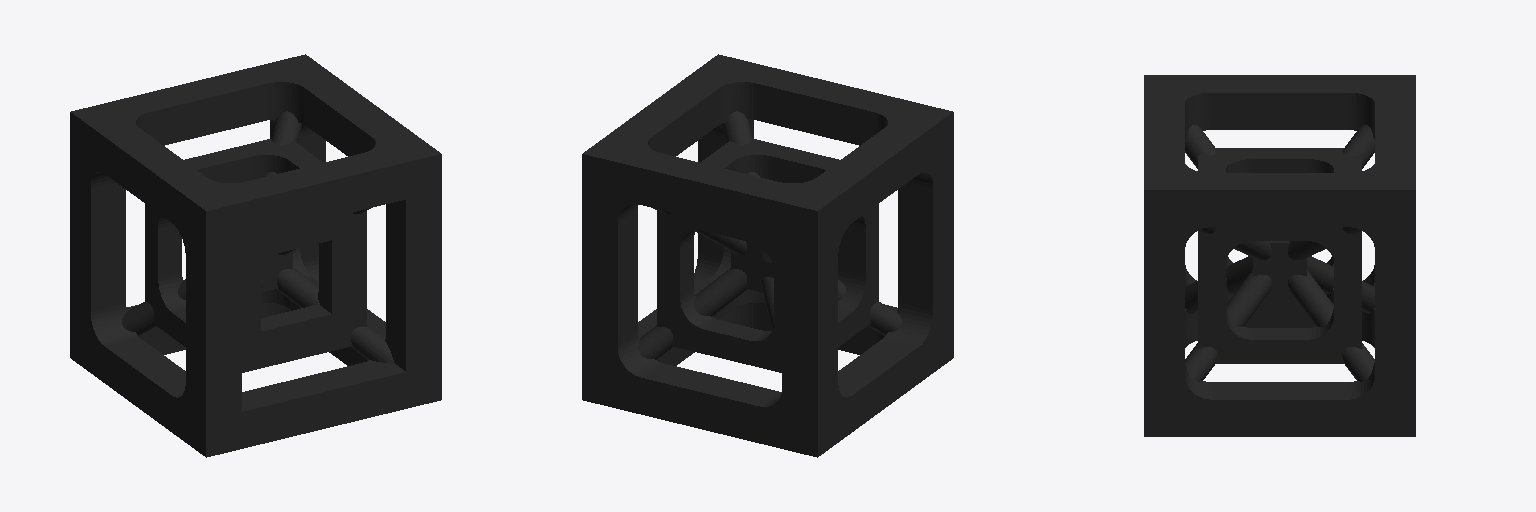
The model's file is cuboid.obj.
3 views of the same model, side by side, from view 1: azimuth 30°, elevation 25°; view 2: azimuth 150°, elevation 25°; view 3: azimuth 270°, elevation 25° (orthographic).
Size of the model in its own units: 20 by 20 by 20.